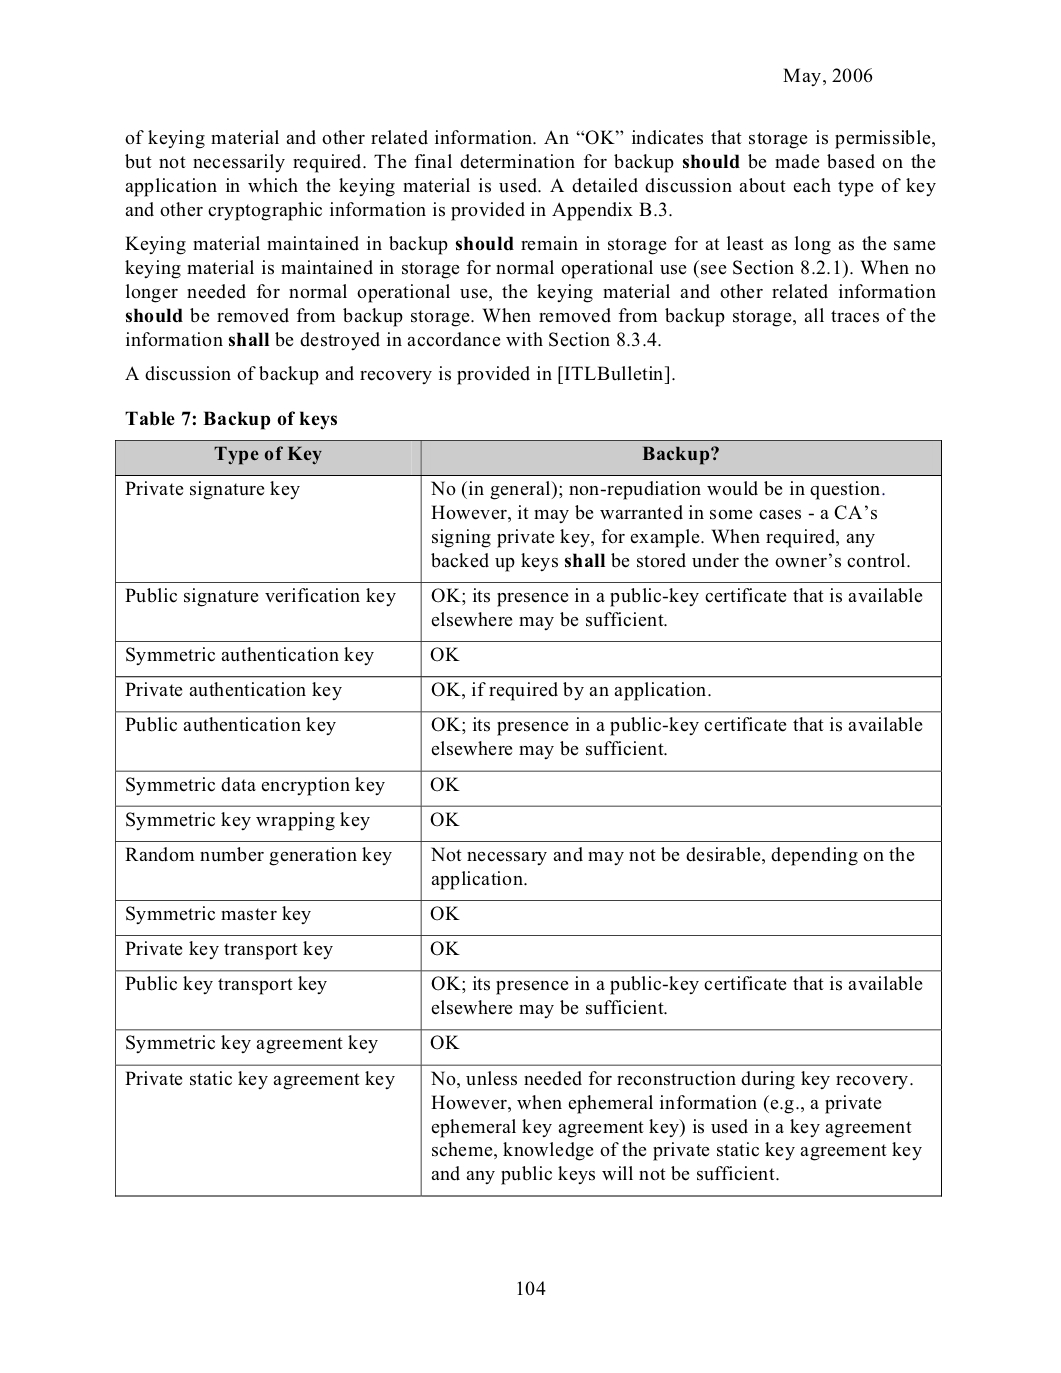Table: (115, 439, 941, 1197)
